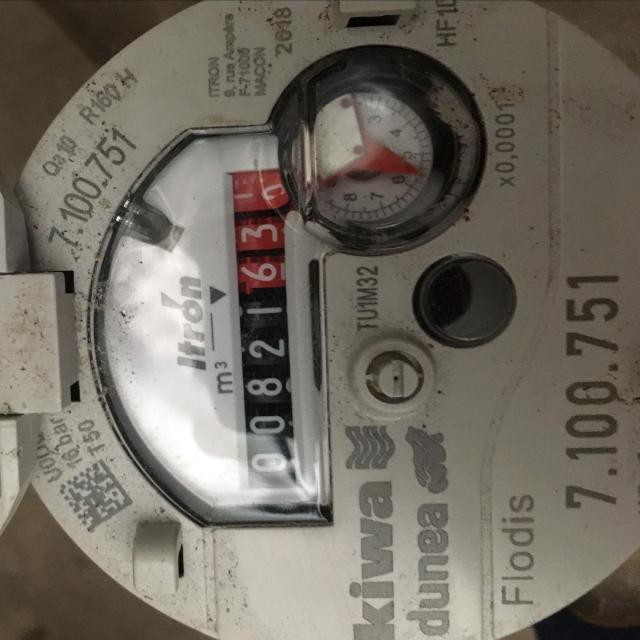gaz_meter: (42, 0, 634, 639)
indication: (226, 168, 302, 490)
